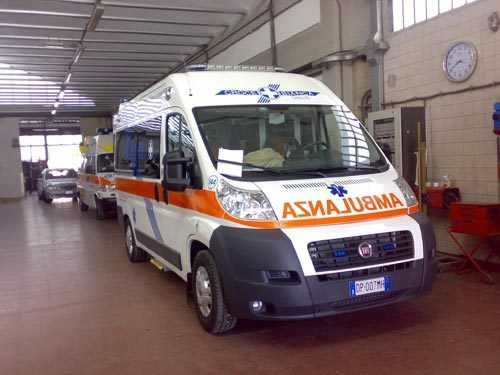Ambulance: (104, 77, 435, 336), (65, 133, 125, 215)
